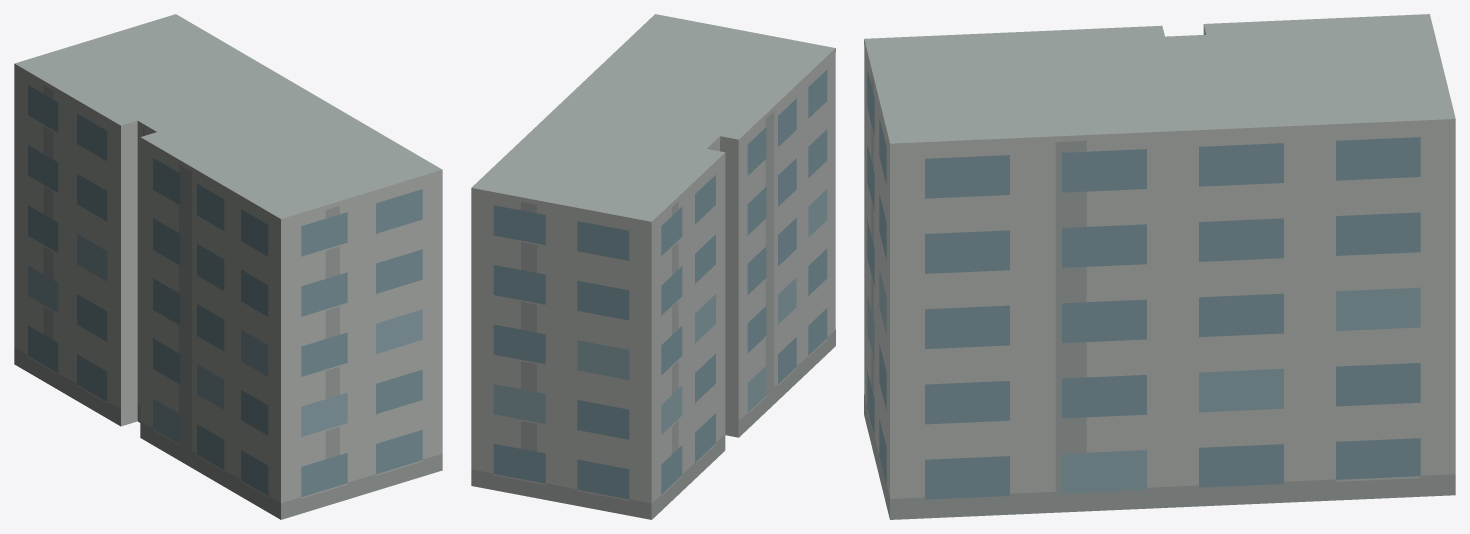
Rendered from survey-upis-32621865.glb.
3 views of the same model, side by side, from view 1: azimuth 30°, elevation 25°; view 2: azimuth 150°, elevation 25°; view 3: azimuth 270°, elevation 25° (orthographic). The views are drawn at different scales.
Parts seen in each view (by area): view 1: survey-upis-32621865.tmp; view 2: survey-upis-32621865.tmp; view 3: survey-upis-32621865.tmp.
Boxes of the visible parts, x1,y1,x2,y2 form: survey-upis-32621865.tmp: [14, 14, 442, 519]; survey-upis-32621865.tmp: [471, 14, 835, 519]; survey-upis-32621865.tmp: [864, 14, 1455, 519].
Size of the model in its own units: 11.91 by 16.1 by 22.95.
